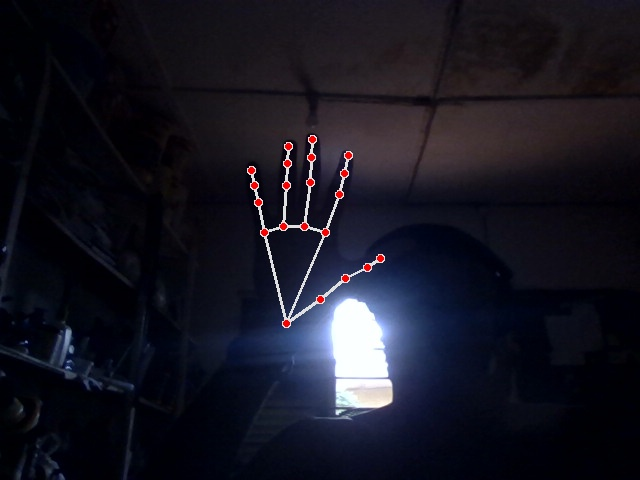no: (244, 130, 388, 337)
